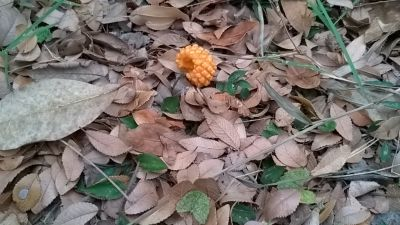eggs: (174, 43, 217, 85)
